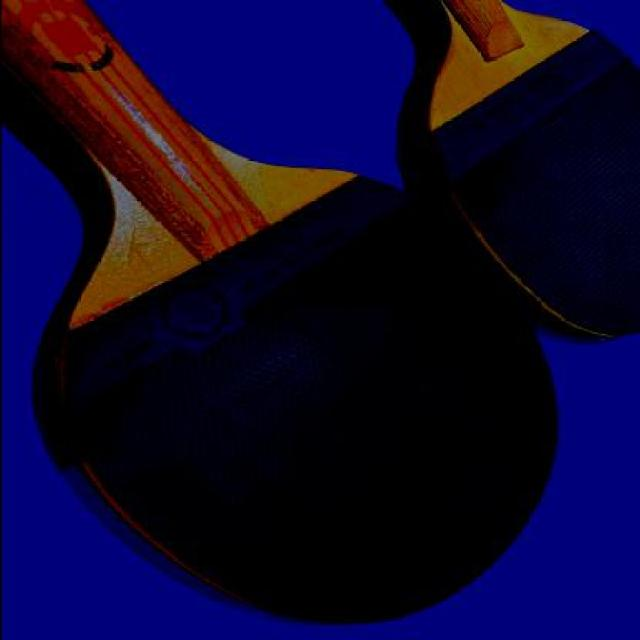table_tennis_racket: (48, 155, 563, 631), (414, 1, 638, 354)
